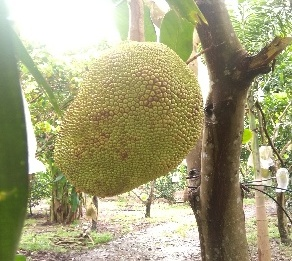Mit: (53, 41, 205, 199)
